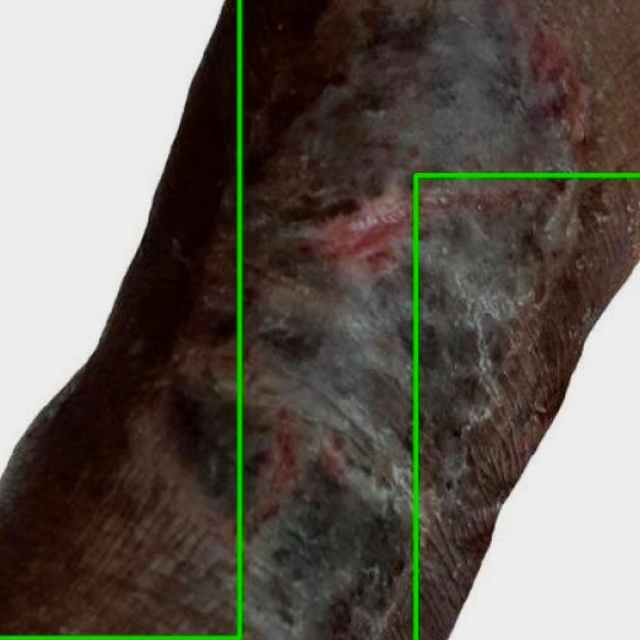Eczema: (0, 0, 239, 638), (416, 175, 639, 639)
